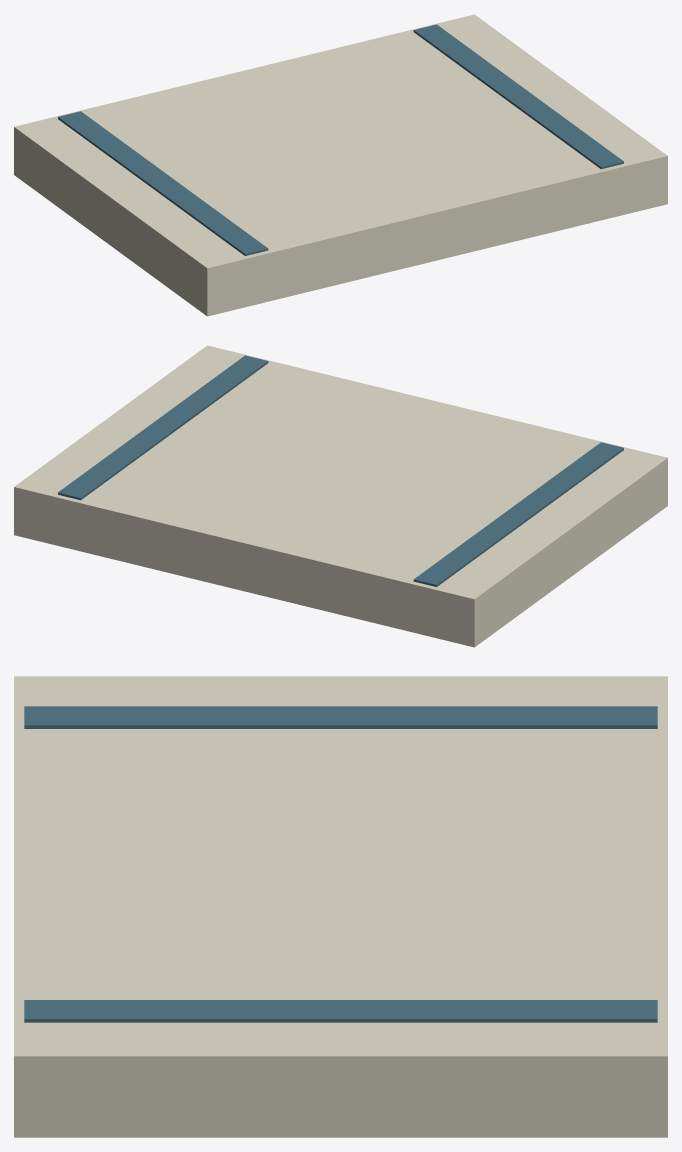
Rendered from towel.glb.
3 renders of one model, top to bottom at view 1: azimuth 30°, elevation 25°; view 2: azimuth 150°, elevation 25°; view 3: azimuth 270°, elevation 25°, orthographic. The views are drawn at different scales.
Parts seen in each view (by area): view 1: towel_Ivory, towel_Blue; view 2: towel_Ivory, towel_Blue; view 3: towel_Ivory, towel_Blue.
Boxes of the visible parts, left/top/right/bottom form: towel_Ivory: left=14, top=14, right=667, bottom=316; towel_Blue: left=58, top=24, right=623, bottom=255; towel_Ivory: left=14, top=345, right=667, bottom=647; towel_Blue: left=58, top=355, right=623, bottom=586; towel_Ivory: left=14, top=676, right=667, bottom=1137; towel_Blue: left=24, top=706, right=657, bottom=1022.
Bounding box in the file's own units: 0.44 × 0.046 × 0.32.
